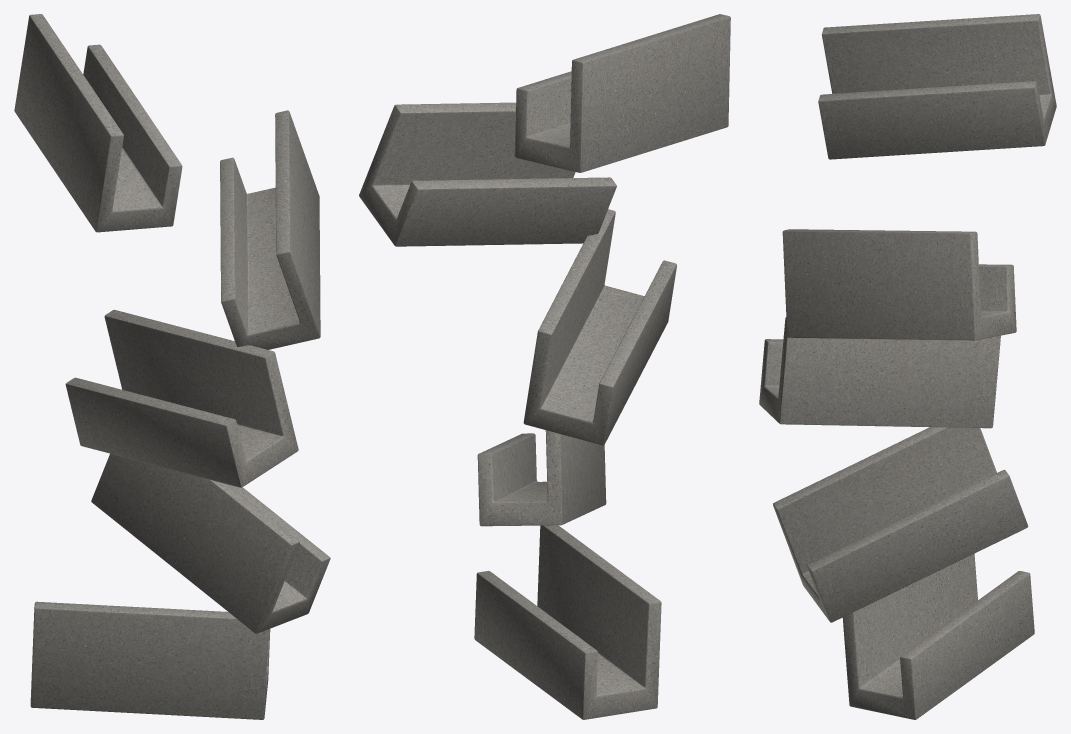
File: ALV-BCO-004_anim.glb
The picture shows the model from 3 angles, left to right: view 1: azimuth 30°, elevation 25°; view 2: azimuth 150°, elevation 25°; view 3: azimuth 270°, elevation 25°; orthographic projection. The views are drawn at different scales.
Parts seen in each view (by area): view 1: ALV-BCO-004_anim2, ALV-BCO-004_anim0, ALV-BCO-004_anim1, ALV-BCO-004_anim4, ALV-BCO-004_anim3; view 2: ALV-BCO-004_anim3, ALV-BCO-004_anim0, ALV-BCO-004_anim4, ALV-BCO-004_anim2, ALV-BCO-004_anim1; view 3: ALV-BCO-004_anim4, ALV-BCO-004_anim1, ALV-BCO-004_anim3, ALV-BCO-004_anim2, ALV-BCO-004_anim0.
Part boxes in pixels (x1,y1,x2,y2): ALV-BCO-004_anim2: (65, 309, 298, 487); ALV-BCO-004_anim0: (30, 601, 270, 719); ALV-BCO-004_anim1: (91, 453, 330, 633); ALV-BCO-004_anim4: (14, 14, 182, 232); ALV-BCO-004_anim3: (220, 110, 320, 349); ALV-BCO-004_anim3: (359, 102, 616, 246); ALV-BCO-004_anim0: (474, 525, 661, 719); ALV-BCO-004_anim4: (515, 14, 730, 172); ALV-BCO-004_anim2: (523, 209, 676, 445); ALV-BCO-004_anim1: (477, 430, 606, 526); ALV-BCO-004_anim4: (818, 14, 1056, 159); ALV-BCO-004_anim1: (773, 427, 1028, 622); ALV-BCO-004_anim3: (782, 229, 1016, 340); ALV-BCO-004_anim2: (759, 317, 1000, 428); ALV-BCO-004_anim0: (842, 553, 1034, 719).
Bounding box in the file's own units: 0.5651 × 1.22 × 0.5219.
Materials: 1 (1 with a texture image).
